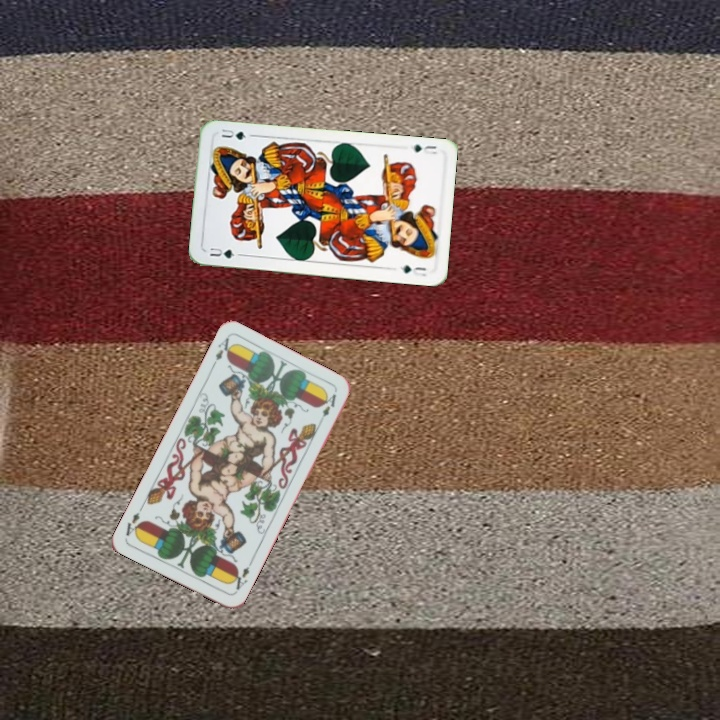EA: (207, 334, 236, 371), (227, 557, 255, 595)
GU: (206, 243, 238, 261), (409, 141, 439, 157)
